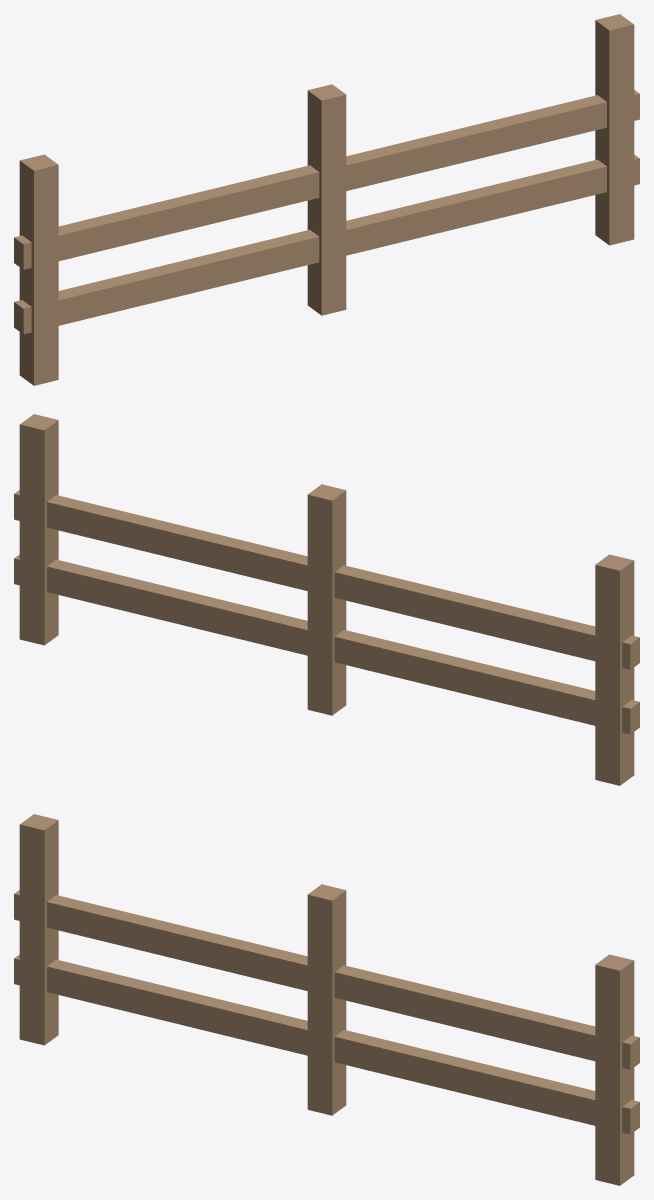
The model's file is fence_segment.glb.
3 views of the same model, one above another, from view 1: azimuth 30°, elevation 25°; view 2: azimuth 150°, elevation 25°; view 3: azimuth 330°, elevation 25° (orthographic).
Parts seen in each view (by area): view 1: fence_rail1, fence_rail2, fence_post-1.4, fence_post1.4, fence_post0; view 2: fence_rail1, fence_rail2, fence_post-1.4, fence_post1.4, fence_post0; view 3: fence_rail1, fence_rail2, fence_post1.4, fence_post-1.4, fence_post0.
Boxes of the visible parts, bbox=[...] form: fence_rail1: bbox=[14, 90, 639, 269]; fence_rail2: bbox=[14, 154, 639, 334]; fence_post-1.4: bbox=[19, 154, 58, 385]; fence_post1.4: bbox=[595, 14, 634, 245]; fence_post0: bbox=[307, 84, 346, 315]; fence_rail1: bbox=[14, 490, 639, 669]; fence_rail2: bbox=[14, 554, 639, 734]; fence_post-1.4: bbox=[595, 554, 634, 785]; fence_post1.4: bbox=[19, 414, 58, 645]; fence_post0: bbox=[307, 484, 346, 715]; fence_rail1: bbox=[14, 890, 639, 1069]; fence_rail2: bbox=[14, 954, 639, 1134]; fence_post1.4: bbox=[595, 954, 634, 1185]; fence_post-1.4: bbox=[19, 814, 58, 1045]; fence_post0: bbox=[307, 884, 346, 1115].
Bounding box in the file's own units: 3 × 1 × 0.1201.
